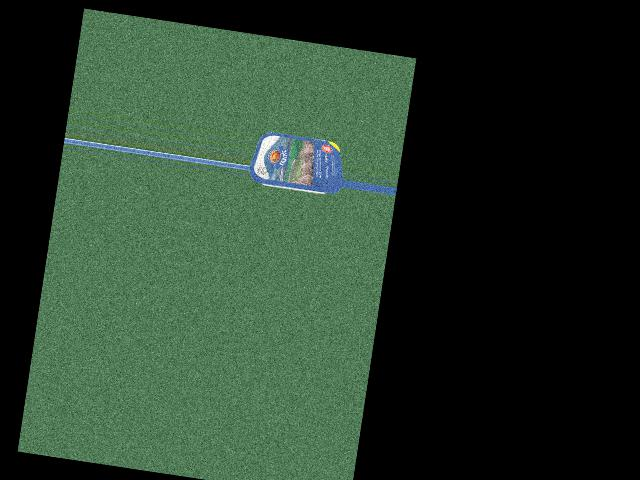cheese: (253, 128, 339, 201)
